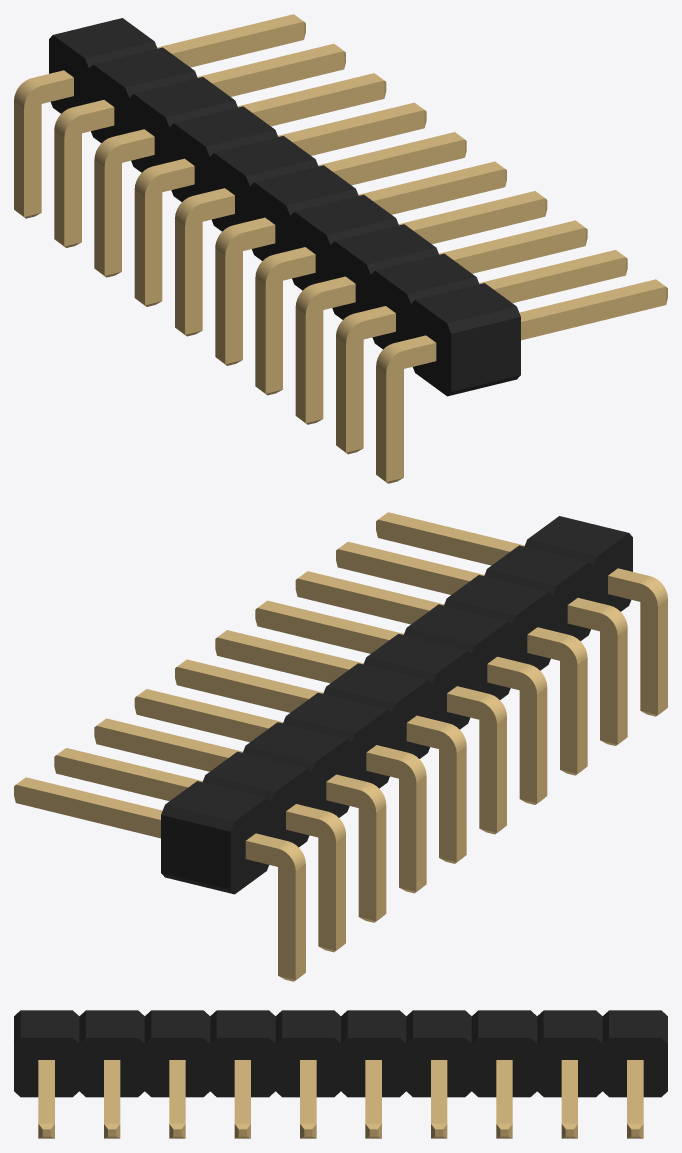
The model's file is kc-pinheader_1x10_p2.54mm_horizontal.glb.
3 views of the same model, one above another, from view 1: azimuth 30°, elevation 25°; view 2: azimuth 150°, elevation 25°; view 3: azimuth 270°, elevation 25° (orthographic). The views are drawn at different scales.
Visible parts, largest first — view 1: 0.75_0.5_0.25_0.9, 0_0_0_0; view 2: 0.75_0.5_0.25_0.9, 0_0_0_0; view 3: 0_0_0_0, 0.75_0.5_0.25_0.9.
Part boxes in pixels (x1,y1,x2,y2): 0.75_0.5_0.25_0.9: (14, 14, 667, 483); 0_0_0_0: (49, 18, 520, 396); 0.75_0.5_0.25_0.9: (14, 512, 667, 981); 0_0_0_0: (161, 516, 632, 894); 0_0_0_0: (14, 1010, 667, 1097); 0.75_0.5_0.25_0.9: (38, 1060, 643, 1138).
Bounding box in the file's own units: 1.04 × 0.554 × 2.54.
